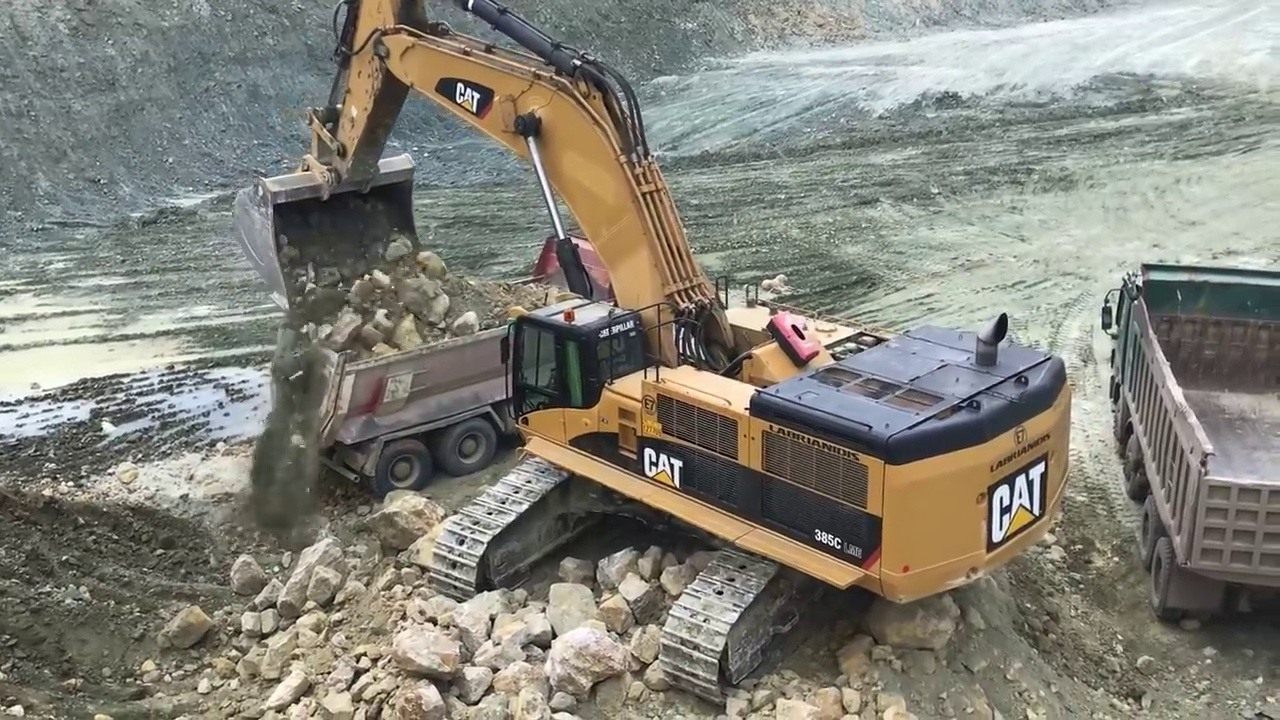dumper: (267, 290, 599, 494)
excavator: (231, 1, 1073, 719)
truck: (1100, 258, 1279, 627)
